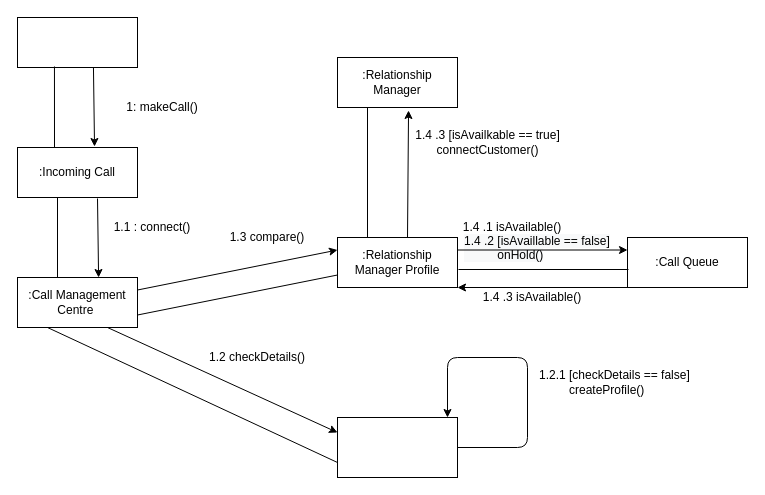
Image size: 765x495. Some labels were removed from this diagram. The centre of each missing label's shape, as x and y in pixels:
":Customer" goes at point (77, 42).
":Customer Profile" goes at point (397, 447).
